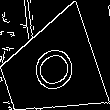O_W: (22, 41, 78, 99)
